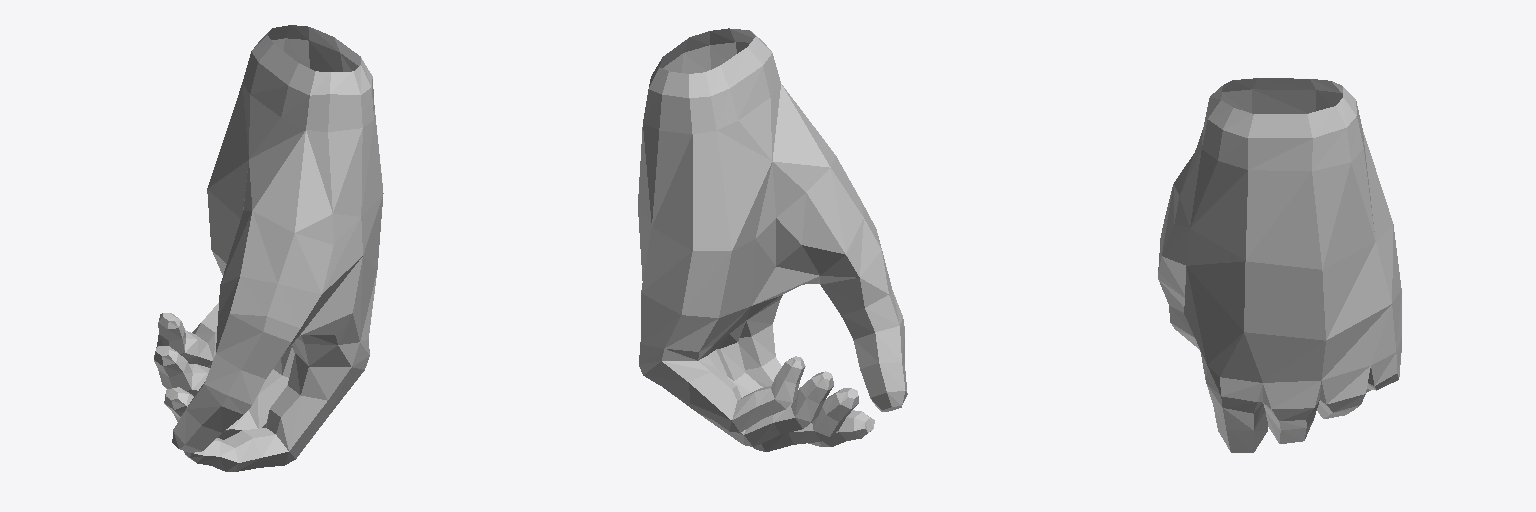
Rendered from hand-1.obj.
3 renders of one model, left to right at view 1: azimuth 30°, elevation 25°; view 2: azimuth 150°, elevation 25°; view 3: azimuth 270°, elevation 25°, orthographic.
Bounding box in the file's own units: 9.64 × 16.15 × 9.22.